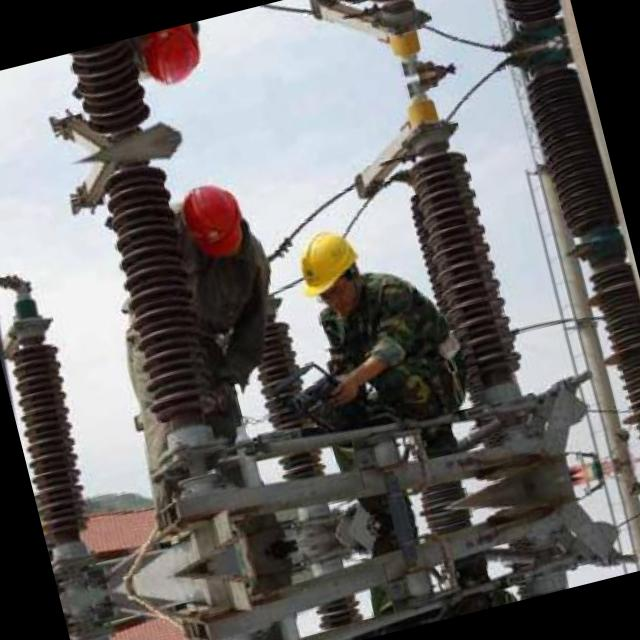helmet: (282, 218, 376, 324), (170, 171, 256, 272), (132, 21, 213, 94)
